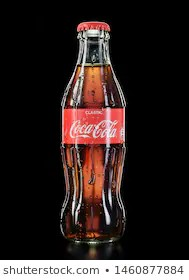coke-glass-bottle: (60, 18, 125, 244)
